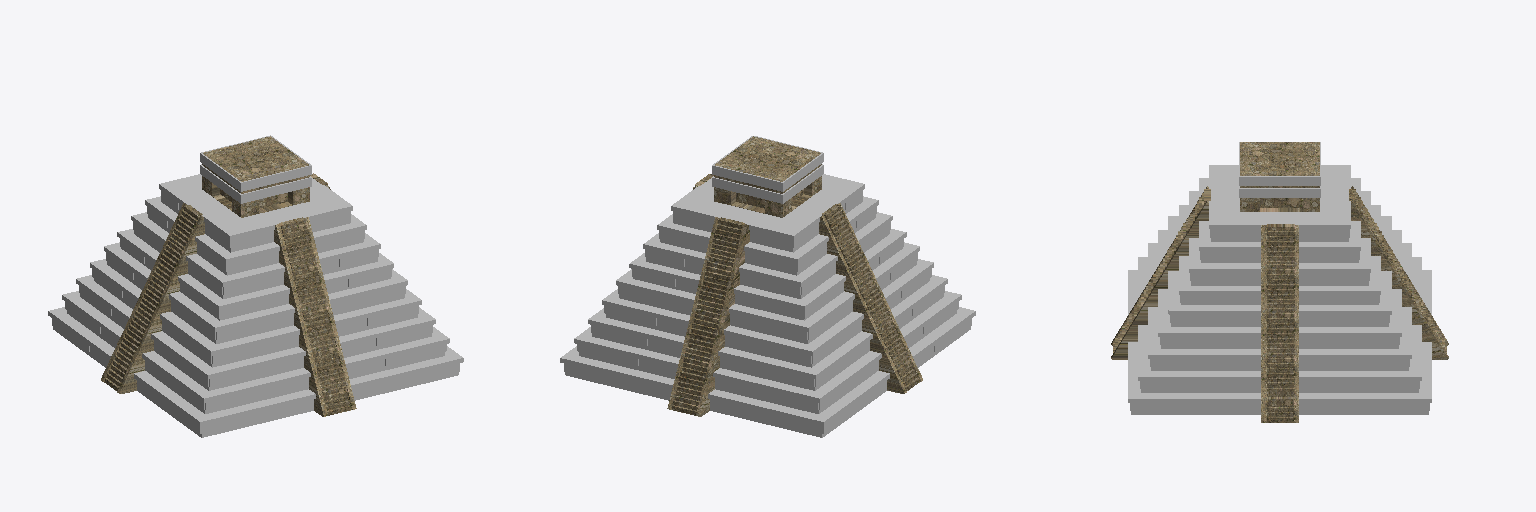
The picture shows the model from 3 angles: view 1: azimuth 30°, elevation 25°; view 2: azimuth 150°, elevation 25°; view 3: azimuth 270°, elevation 25°; orthographic projection.
Parts seen in each view (by area): view 1: CuerpoPiramide_Material, CuerpoPiramide_Material.001; view 2: CuerpoPiramide_Material, CuerpoPiramide_Material.001; view 3: CuerpoPiramide_Material, CuerpoPiramide_Material.001.
Boxes of the visible parts, box(x1,y1,x2,y2) form: CuerpoPiramide_Material: box(48, 135, 463, 437); CuerpoPiramide_Material.001: box(101, 136, 356, 416); CuerpoPiramide_Material: box(560, 136, 975, 437); CuerpoPiramide_Material.001: box(667, 136, 922, 416); CuerpoPiramide_Material: box(1128, 142, 1431, 414); CuerpoPiramide_Material.001: box(1111, 142, 1448, 422).
Size of the model in its own units: 102 by 64.73 by 102.
2 materials, 1 textured.